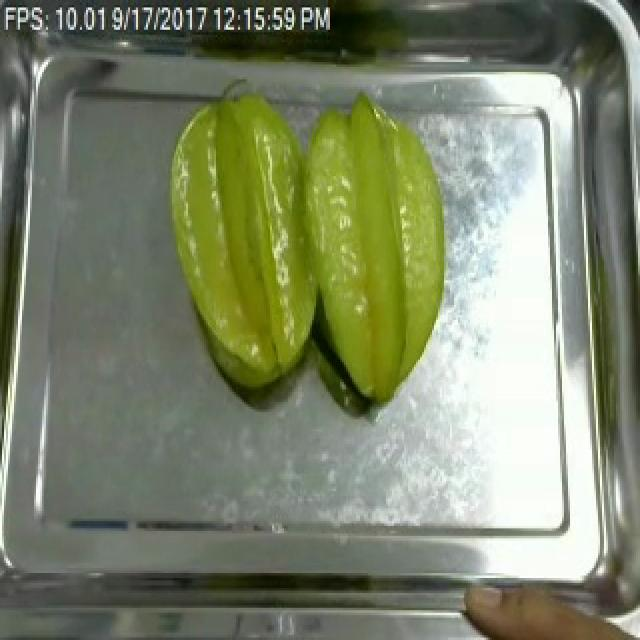fruit: (154, 80, 464, 414), (452, 573, 634, 640)
